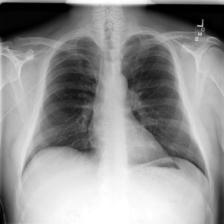normal: (18, 32, 212, 186)
